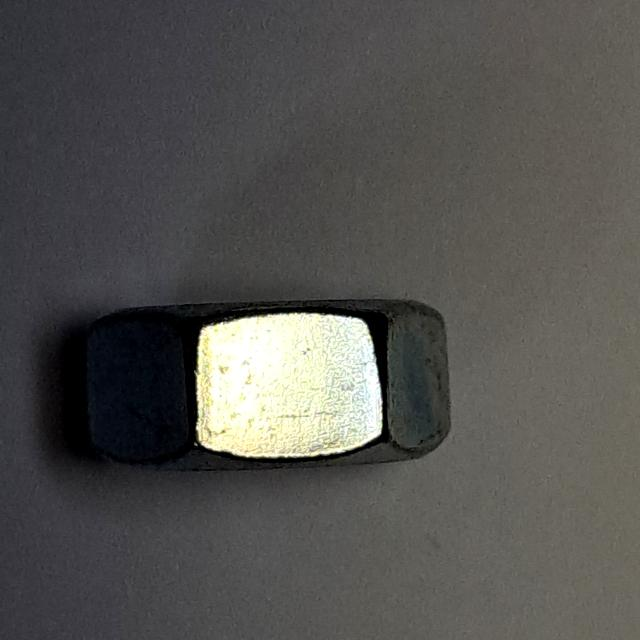Side_Excellent: (76, 284, 463, 487)
